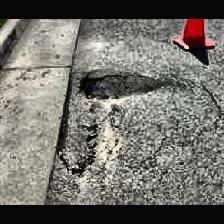pothole: (54, 72, 99, 176), (77, 72, 163, 100)
